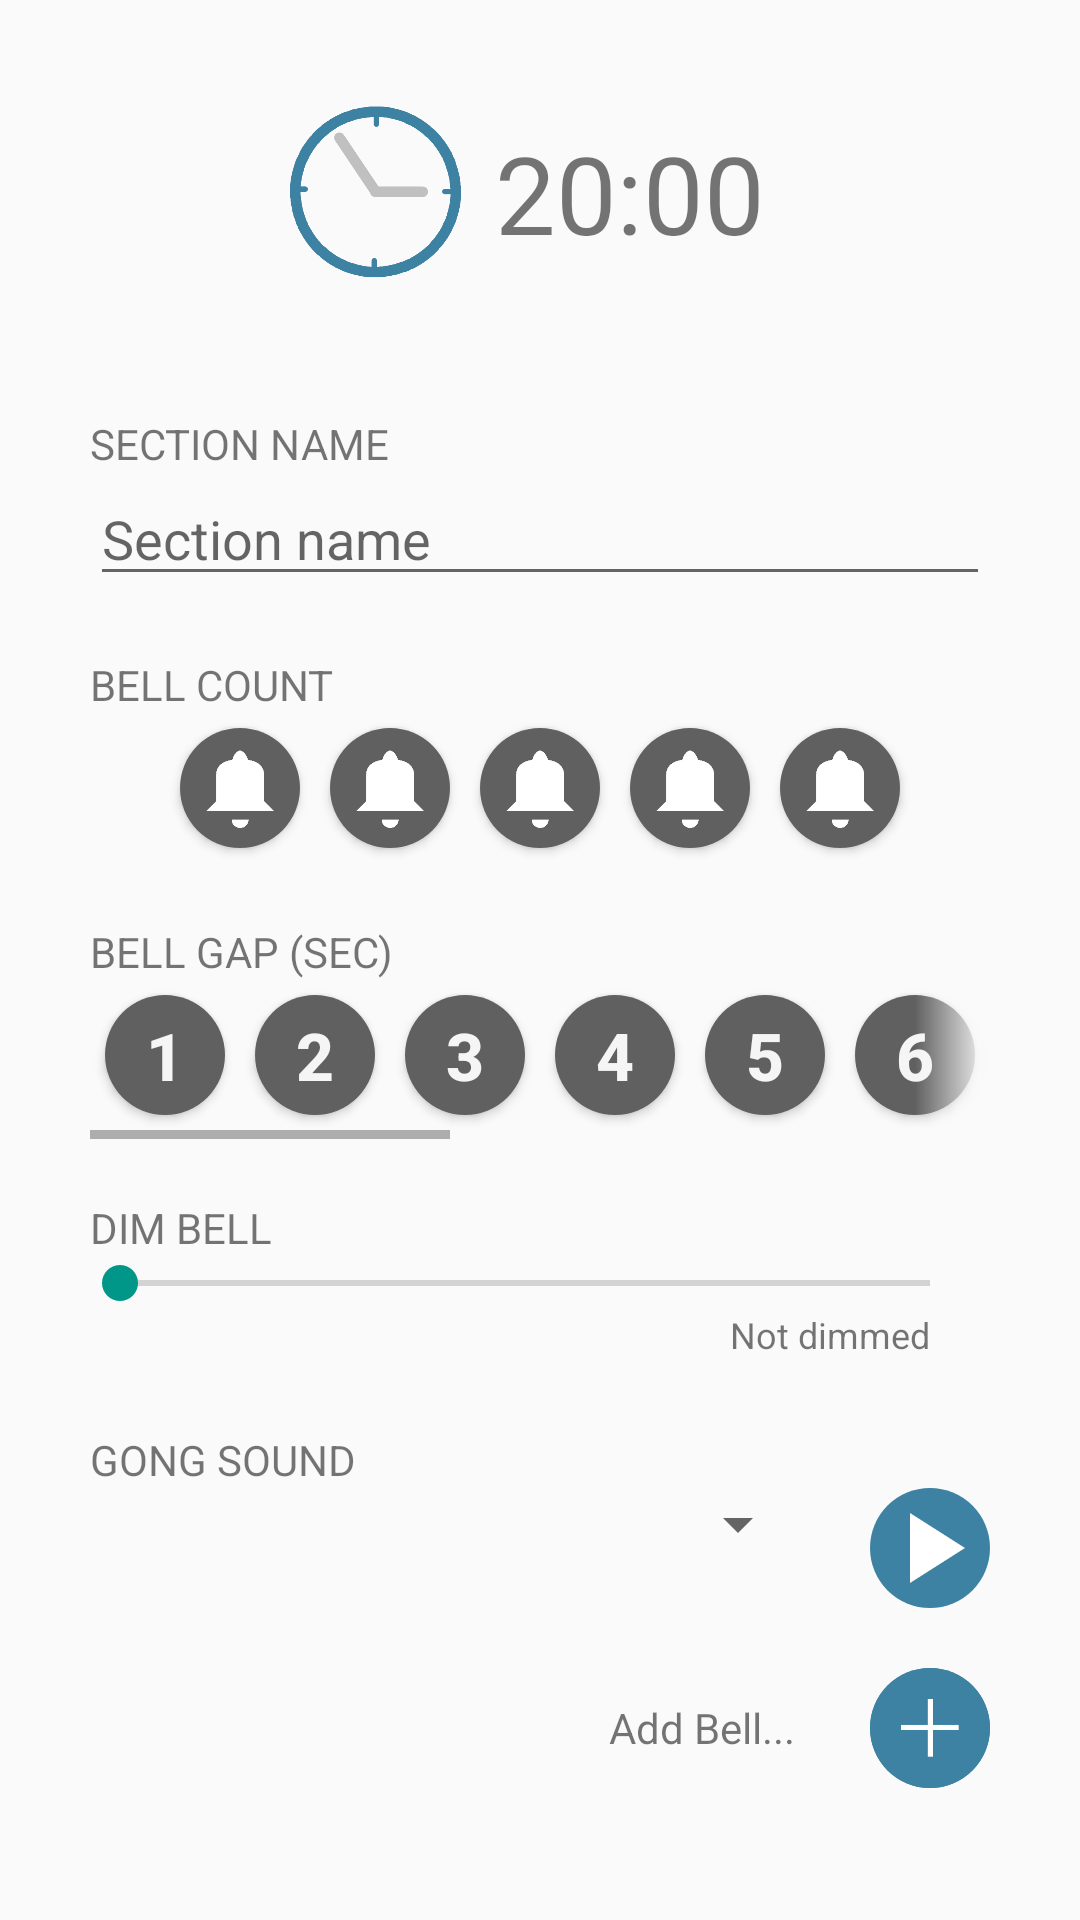

Icons on this 1080×1920 Android screen, each with its box as region(x1, y1, x2, y2):
clock: region(290, 106, 461, 277)
play arrow: region(870, 1488, 990, 1608)
plus: region(870, 1668, 990, 1788)
